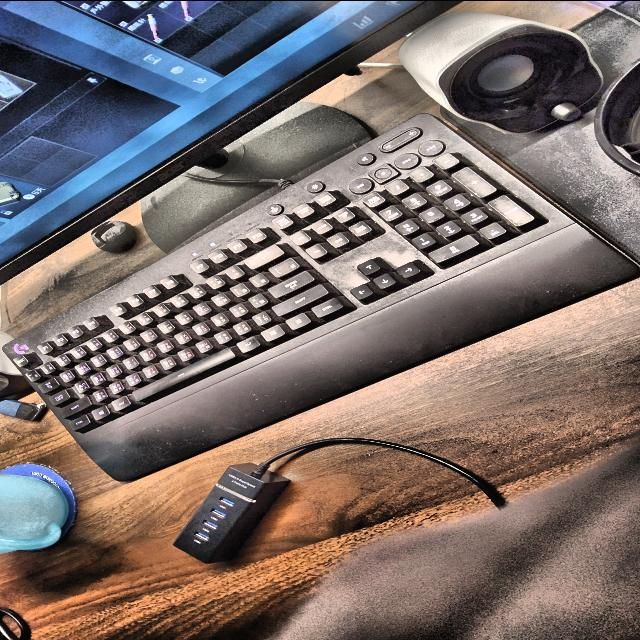HUB: (173, 437, 502, 562)
Keyboard: (4, 113, 638, 480)
Screen: (0, 0, 455, 280)
